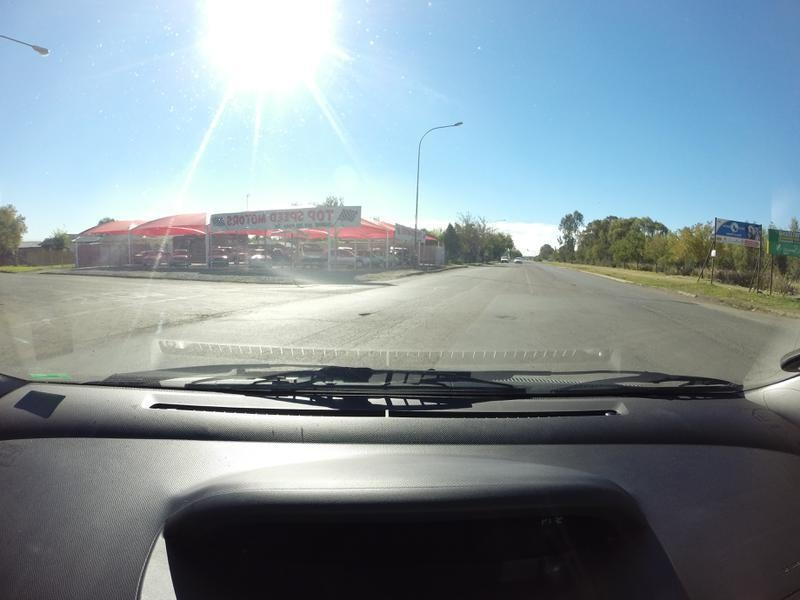pothole: (337, 305, 373, 328)
